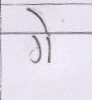e_matra: (27, 8, 53, 32)
